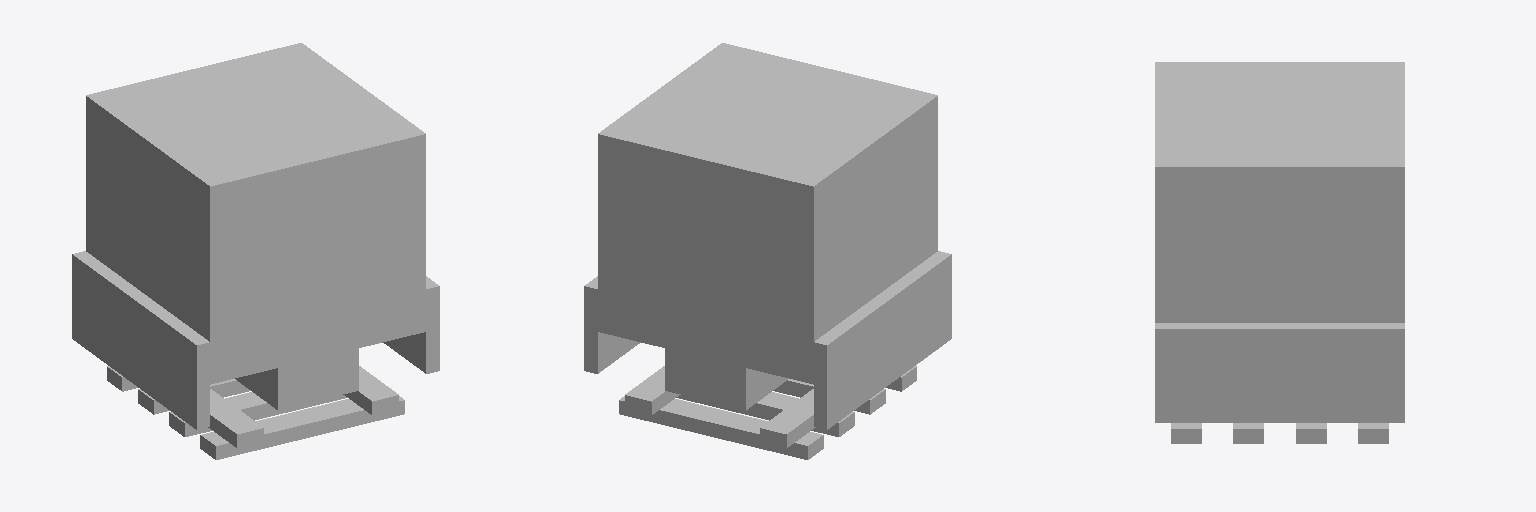
Rendered from sm_mapnodes_train2.obj.
The picture shows the model from 3 angles: view 1: azimuth 30°, elevation 25°; view 2: azimuth 150°, elevation 25°; view 3: azimuth 270°, elevation 25°; orthographic projection.
Parts seen in each view (by area): view 1: Train2; view 2: Train2; view 3: Train2.
Boxes of the visible parts, x1=… form: Train2: x1=72, y1=43, x2=439, y2=459; Train2: x1=584, y1=43, x2=951, y2=459; Train2: x1=1155, y1=62, x2=1404, y2=443.
Size of the model in its own units: 1.12 by 1.25 by 1.